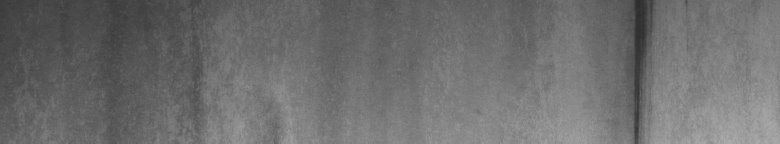hd: (624, 4, 652, 136)
